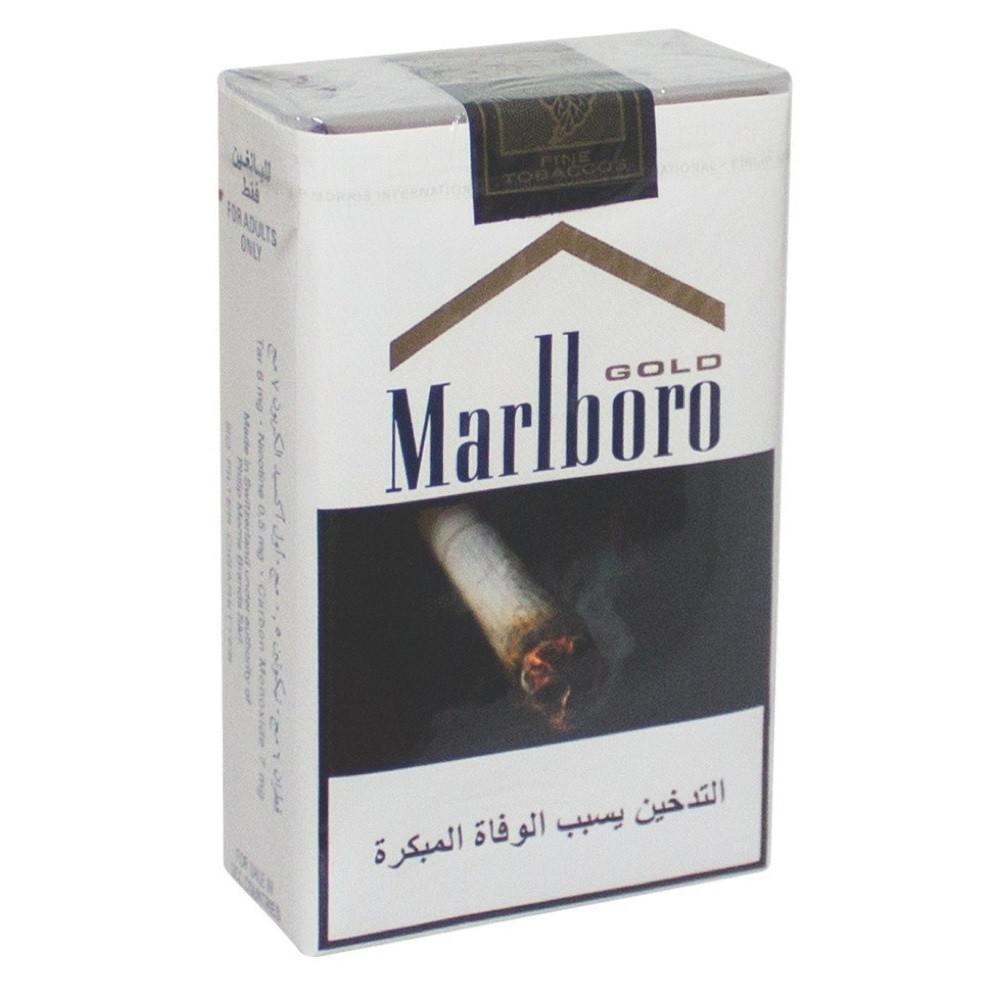marlboro_gold: (317, 126, 769, 867)
